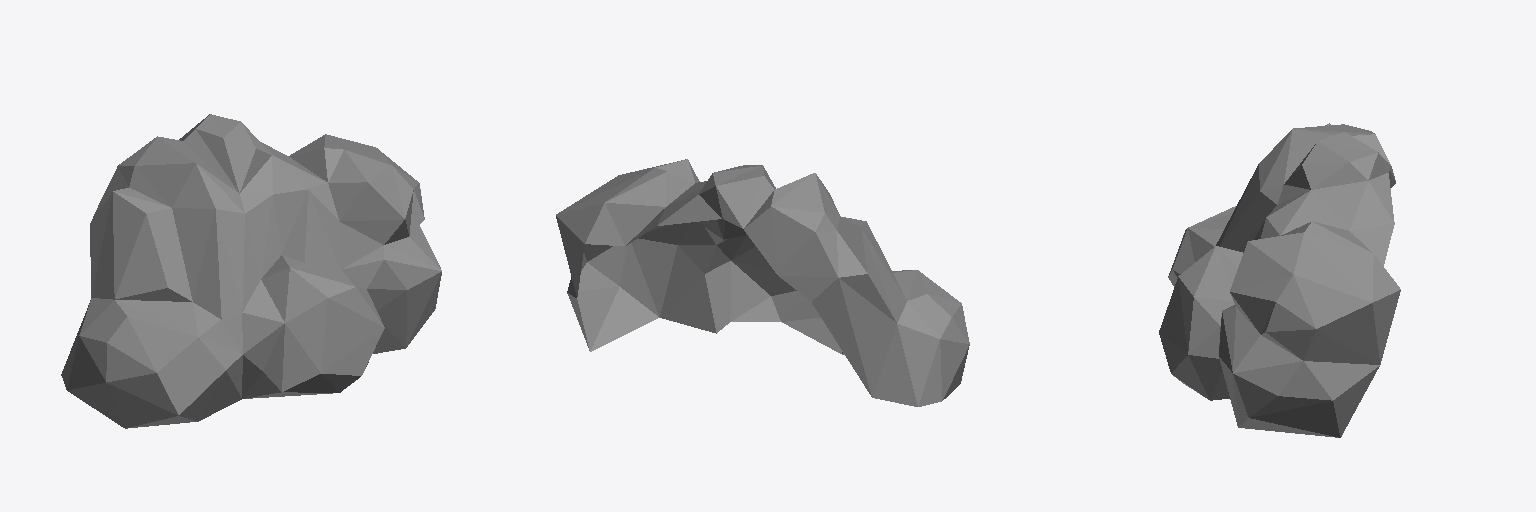
Rendered from Roca_01.obj.
3 renders of one model, left to right at view 1: azimuth 30°, elevation 25°; view 2: azimuth 150°, elevation 25°; view 3: azimuth 270°, elevation 25°, orthographic.
Visible parts, largest first — view 1: Roca_01; view 2: Roca_01; view 3: Roca_01.
Part boxes in pixels (left/top/right/bottom): Roca_01: left=61, top=114, right=441, bottom=428; Roca_01: left=556, top=159, right=969, bottom=406; Roca_01: left=1159, top=123, right=1400, bottom=437.
Size of the model in its own units: 46.48 by 27.02 by 26.84.